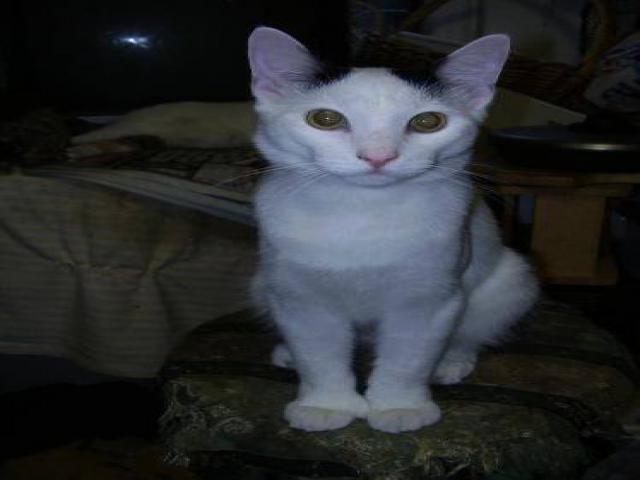cat: (234, 23, 561, 448)
